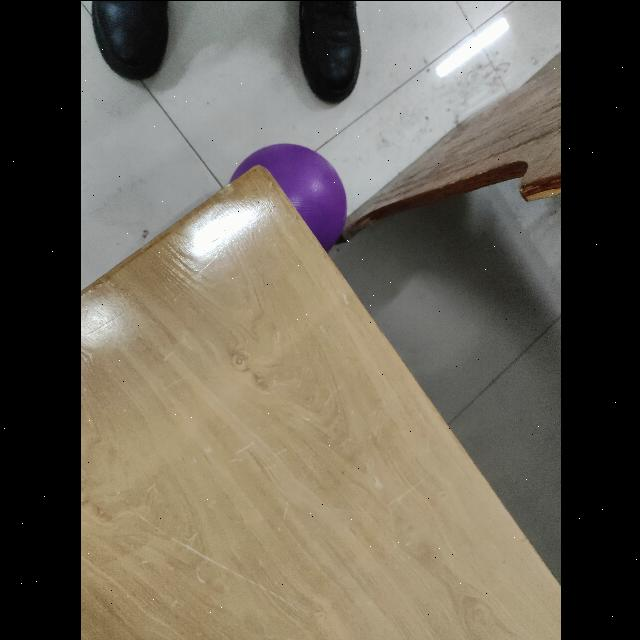P: (223, 143, 347, 261)
